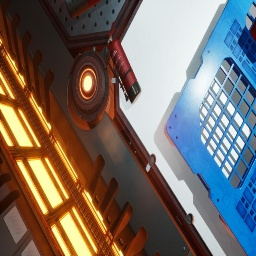FireExtinguisher ]: (106, 21, 142, 104)
FirstAidBox ,: (250, 18, 256, 42)
NitrogenTank ,: (65, 0, 102, 19)
